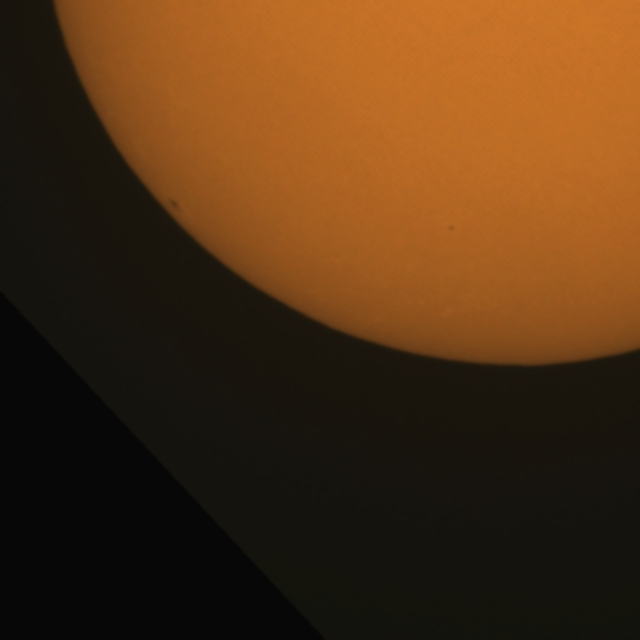sunspot: (167, 196, 182, 214), (447, 223, 457, 233)
